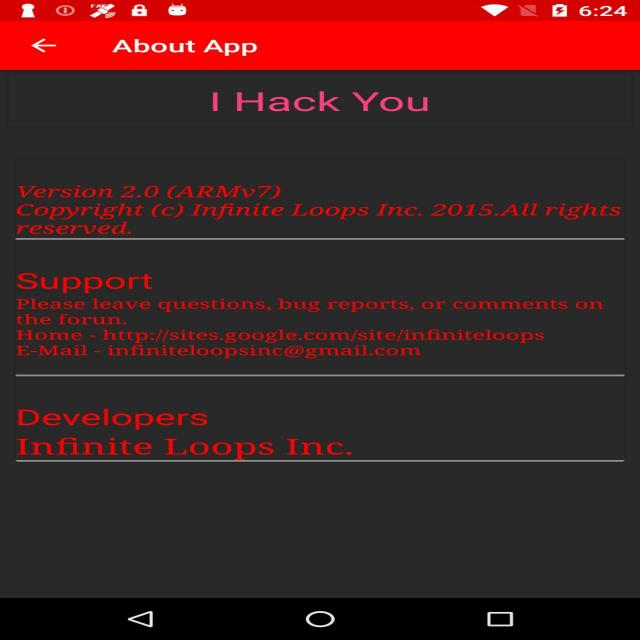button: (22, 34, 78, 60)
text: (18, 269, 617, 361), (15, 179, 627, 238), (17, 399, 363, 459), (198, 87, 446, 120), (107, 35, 279, 60)
